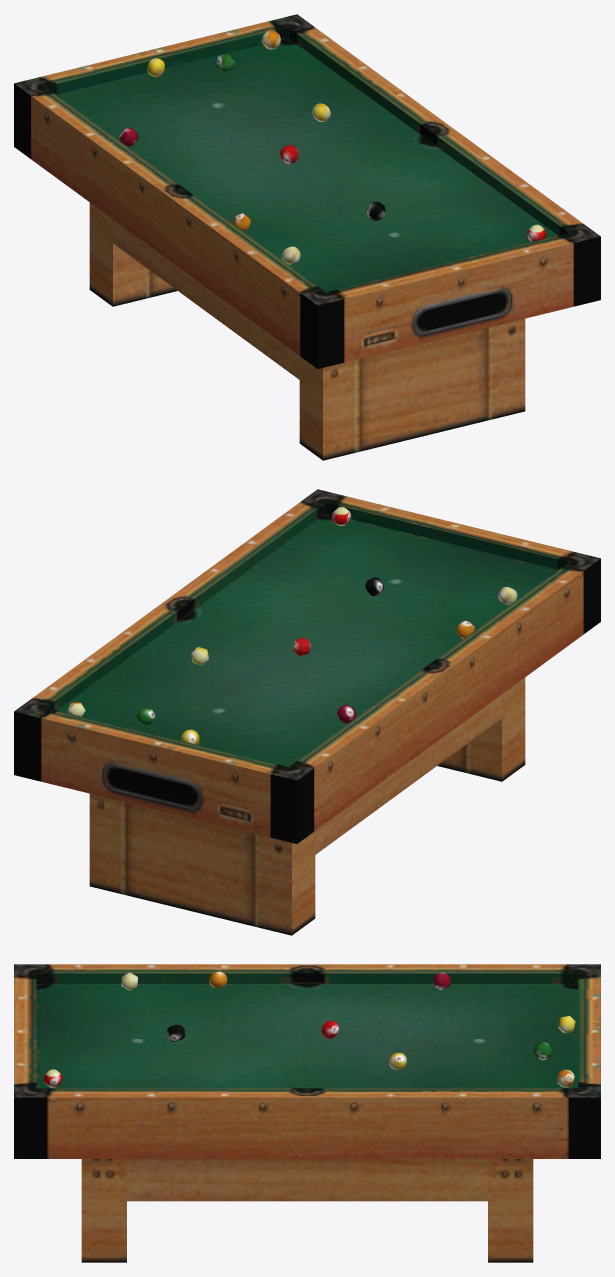
The model's file is pooltable1.fbx.
3 renders of one model, top to bottom at view 1: azimuth 30°, elevation 25°; view 2: azimuth 150°, elevation 25°; view 3: azimuth 270°, elevation 25°, orthographic. The views are drawn at different scales.
Parts seen in each view (by area): view 1: mesh_0; view 2: mesh_0; view 3: mesh_0.
Part boxes in pixels (x1=…): mesh_0: x1=14, y1=14, x2=600, y2=460; mesh_0: x1=14, y1=489, x2=600, y2=935; mesh_0: x1=14, y1=964, x2=600, y2=1262.
Size of the model in its own units: 140 by 93.37 by 260.
1 material, 1 textured.
